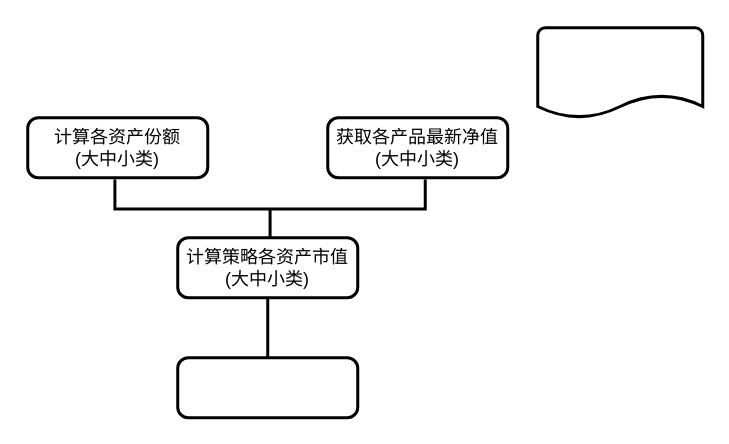
Some shapes in this 729 by 444 pixel diagram are drawn without their labels. The box of each missing label's shape, as (x1, y1, x2, y2) in pixels:
1，获取场内外基金最新净值/价格: (536, 26, 704, 118)
生成资产配置图 (旭日图): (176, 356, 358, 418)
